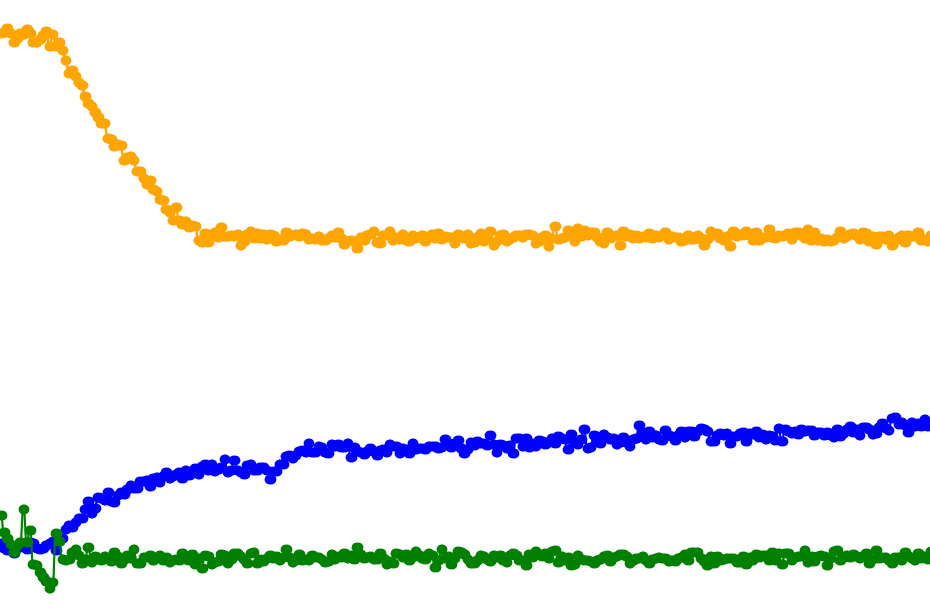CO2 Problem: (311, 0, 738, 616), (738, 0, 930, 616), (155, 0, 311, 616), (38, 0, 155, 616)
Condensation CO2: (38, 0, 311, 616), (388, 0, 583, 616), (738, 0, 930, 616), (777, 0, 930, 616), (311, 0, 388, 616), (661, 0, 738, 616)
Condensation O2: (777, 0, 930, 616), (622, 0, 738, 616), (311, 0, 388, 616)
High CO2: (349, 0, 505, 616), (777, 0, 930, 616), (622, 0, 738, 616)
High O2: (38, 0, 311, 616), (311, 0, 505, 616), (155, 0, 311, 616), (777, 0, 930, 616), (38, 0, 155, 616)
Low CO2: (311, 0, 738, 616), (311, 0, 622, 616), (311, 0, 505, 616), (738, 0, 930, 616), (155, 0, 311, 616), (777, 0, 930, 616), (38, 0, 155, 616), (622, 0, 738, 616)
Low O2: (311, 0, 622, 616), (155, 0, 311, 616), (777, 0, 930, 616), (38, 0, 155, 616), (388, 0, 505, 616), (505, 0, 622, 616), (311, 0, 388, 616), (661, 0, 738, 616)
Normal: (0, 0, 930, 616), (311, 0, 738, 616), (311, 0, 622, 616), (388, 0, 622, 616), (388, 0, 583, 616), (738, 0, 930, 616), (155, 0, 311, 616), (349, 0, 505, 616), (777, 0, 930, 616), (38, 0, 155, 616), (155, 0, 272, 616), (388, 0, 505, 616), (505, 0, 622, 616), (622, 0, 738, 616), (38, 0, 116, 616), (661, 0, 738, 616), (349, 0, 388, 616), (622, 0, 661, 616), (738, 0, 777, 616), (0, 0, 38, 616), (311, 0, 349, 616)
O2 Problem: (311, 0, 738, 616), (311, 0, 622, 616), (661, 0, 930, 616), (155, 0, 311, 616), (777, 0, 930, 616), (194, 0, 311, 616), (388, 0, 505, 616), (505, 0, 622, 616), (622, 0, 738, 616), (349, 0, 388, 616), (622, 0, 661, 616), (738, 0, 777, 616), (311, 0, 349, 616)
